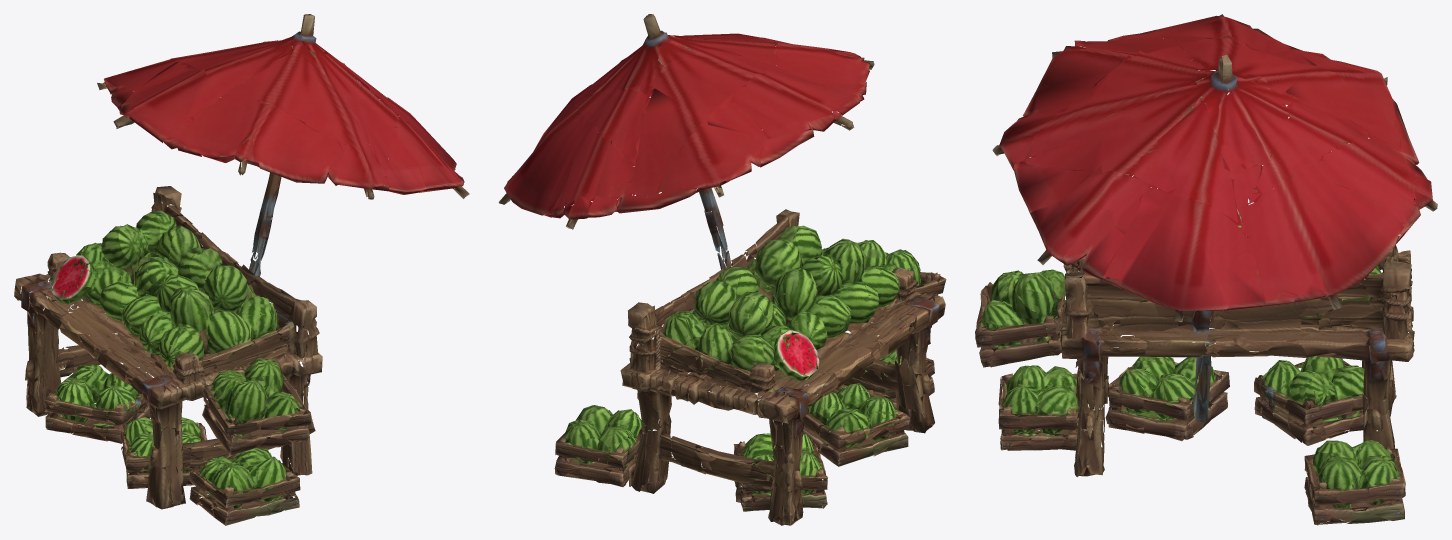
File: MelonStall.fbx
3 renders of one model, left to right at view 1: azimuth 30°, elevation 25°; view 2: azimuth 150°, elevation 25°; view 3: azimuth 270°, elevation 25°, orthographic. The views are drawn at different scales.
Parts seen in each view (by area): view 1: MelonStall; view 2: MelonStall; view 3: MelonStall.
Boxes of the visible parts, x1,y1,x2,y2 form: MelonStall: (14,14,469,525); MelonStall: (498,14,946,525); MelonStall: (975,14,1437,525).
Bounding box in the file's own units: 2.3 × 2.5 × 2.3.
Materials: 1 (1 with a texture image).
